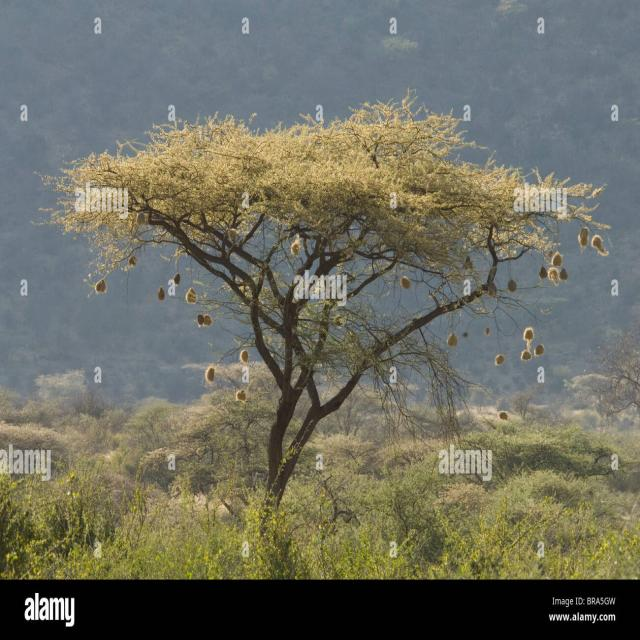Acacia: (61, 98, 572, 483)
